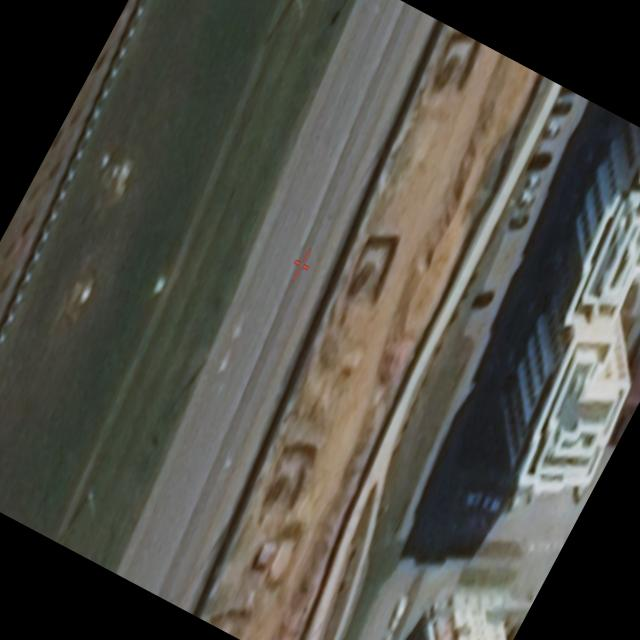old_road: (309, 81, 565, 640)
road: (118, 0, 441, 621)
